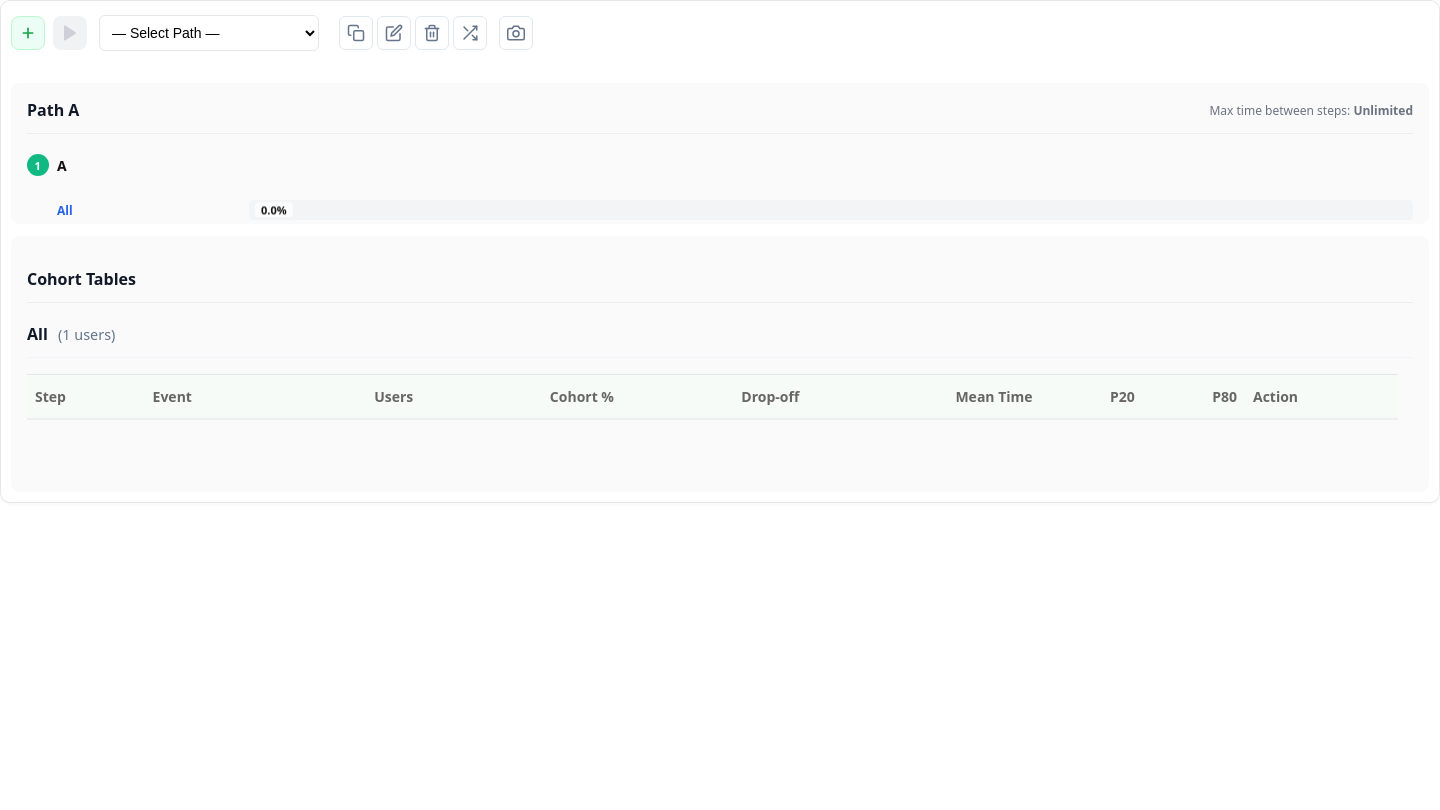
PathsPane - Dual Path Comparison › does NOT show stale results notice immediately when compare is toggled ON
Click the button named "Compare another path" at (470, 33), box [453,16,487,50]
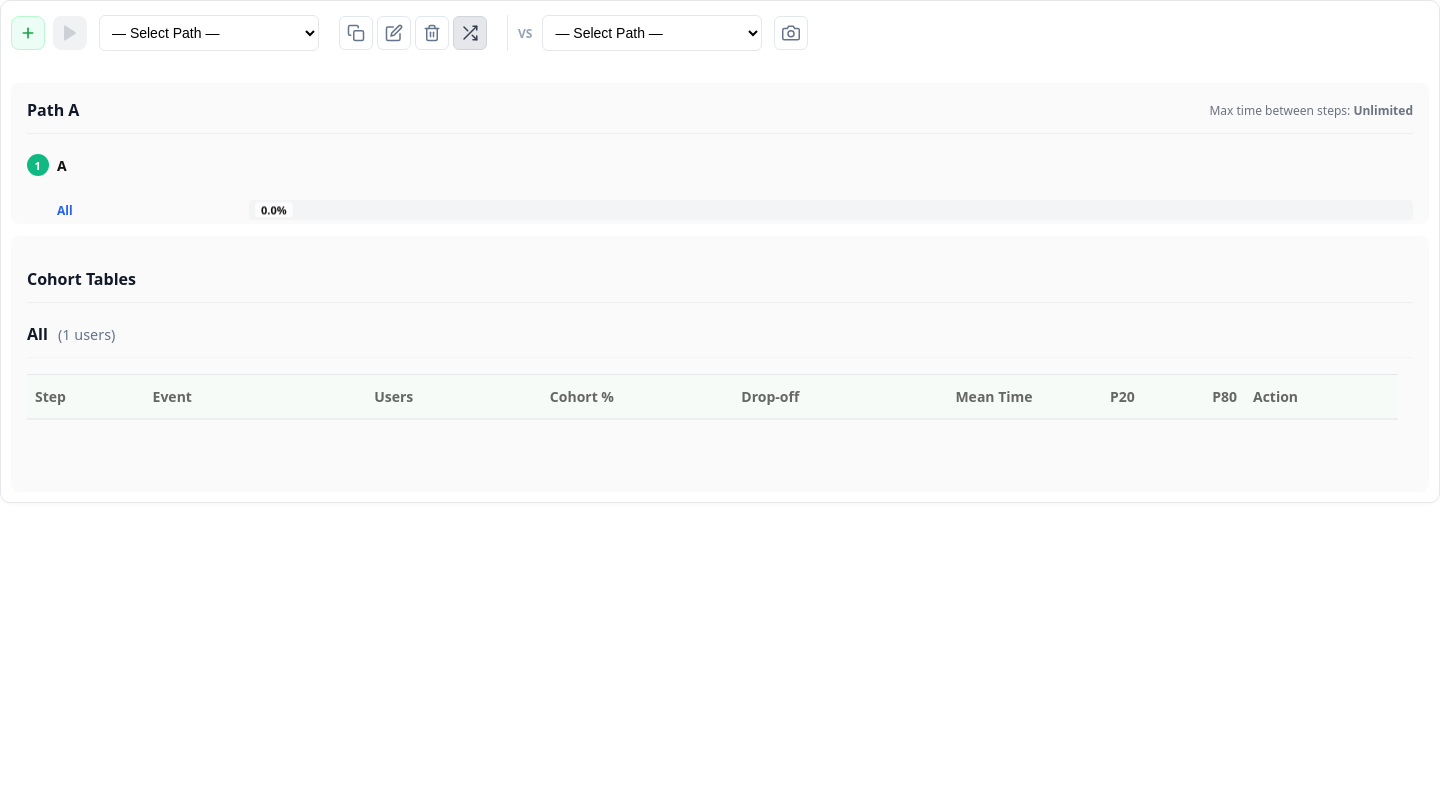
Expected: the text "Results outdated" is not shown
# Now select Path B
Select "2" in the dropdown next to "vs" at (652, 33), box [542,15,762,51]
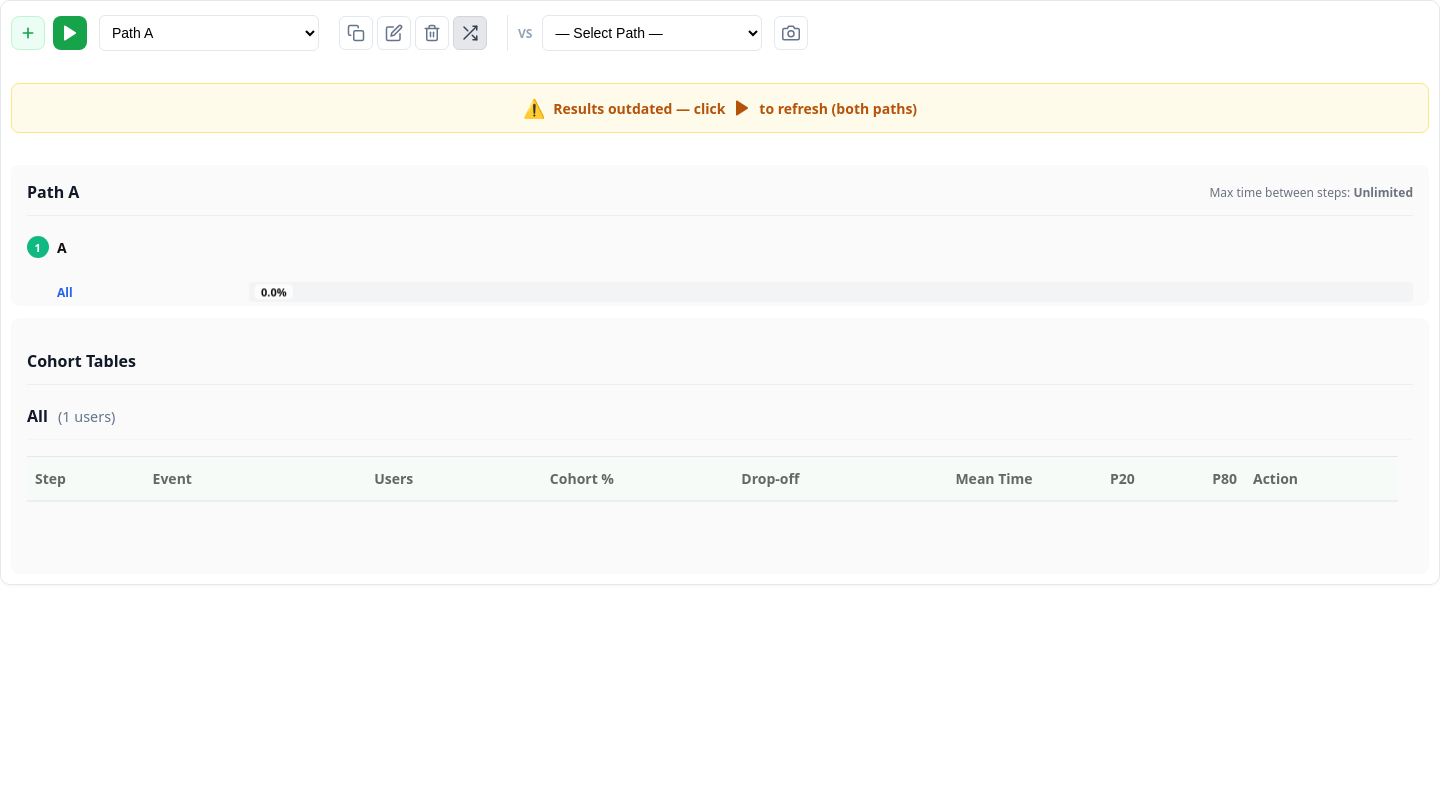
Expected: the text "⚠️ Results outdated — click to refresh (both paths)" is shown, [11,83,1429,133]
